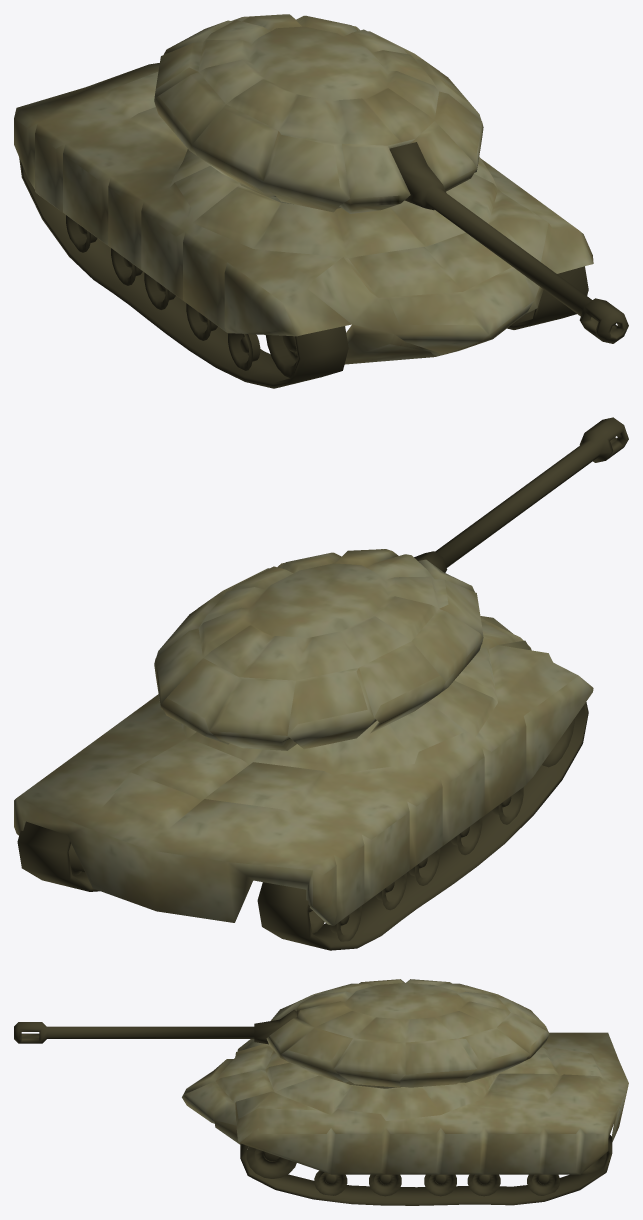
File: Panzer.fbx
3 renders of one model, top to bottom at view 1: azimuth 30°, elevation 25°; view 2: azimuth 150°, elevation 25°; view 3: azimuth 270°, elevation 25°, orthographic. The views are drawn at different scales.
Parts seen in each view (by area): view 1: Korpus, Bashnia, Gun; view 2: Korpus, Bashnia, Gun; view 3: Korpus, Bashnia, Gun.
Boxes of the visible parts, x1,y1,x2,y2 form: Korpus: (14,63,593,388); Bashnia: (154,14,483,213); Gun: (389,142,628,343); Korpus: (14,616,593,950); Bashnia: (154,549,483,750); Gun: (414,417,628,572); Korpus: (182,1032,628,1205); Bashnia: (266,979,549,1088); Gun: (14,1009,296,1044).
Size of the model in its own units: 193 by 147 by 506.
1 material, 1 textured.
